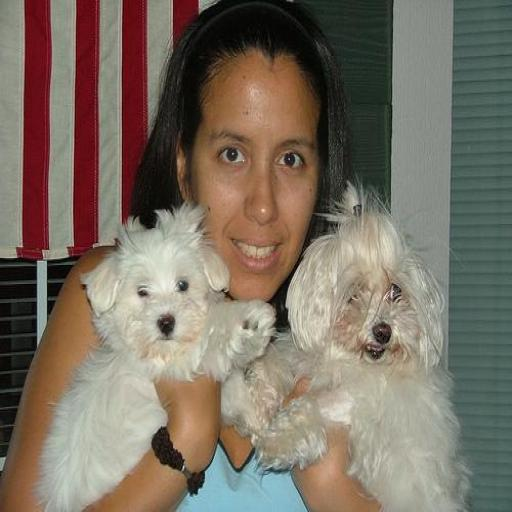dog_face: (286, 190, 450, 373), (85, 212, 244, 379)
